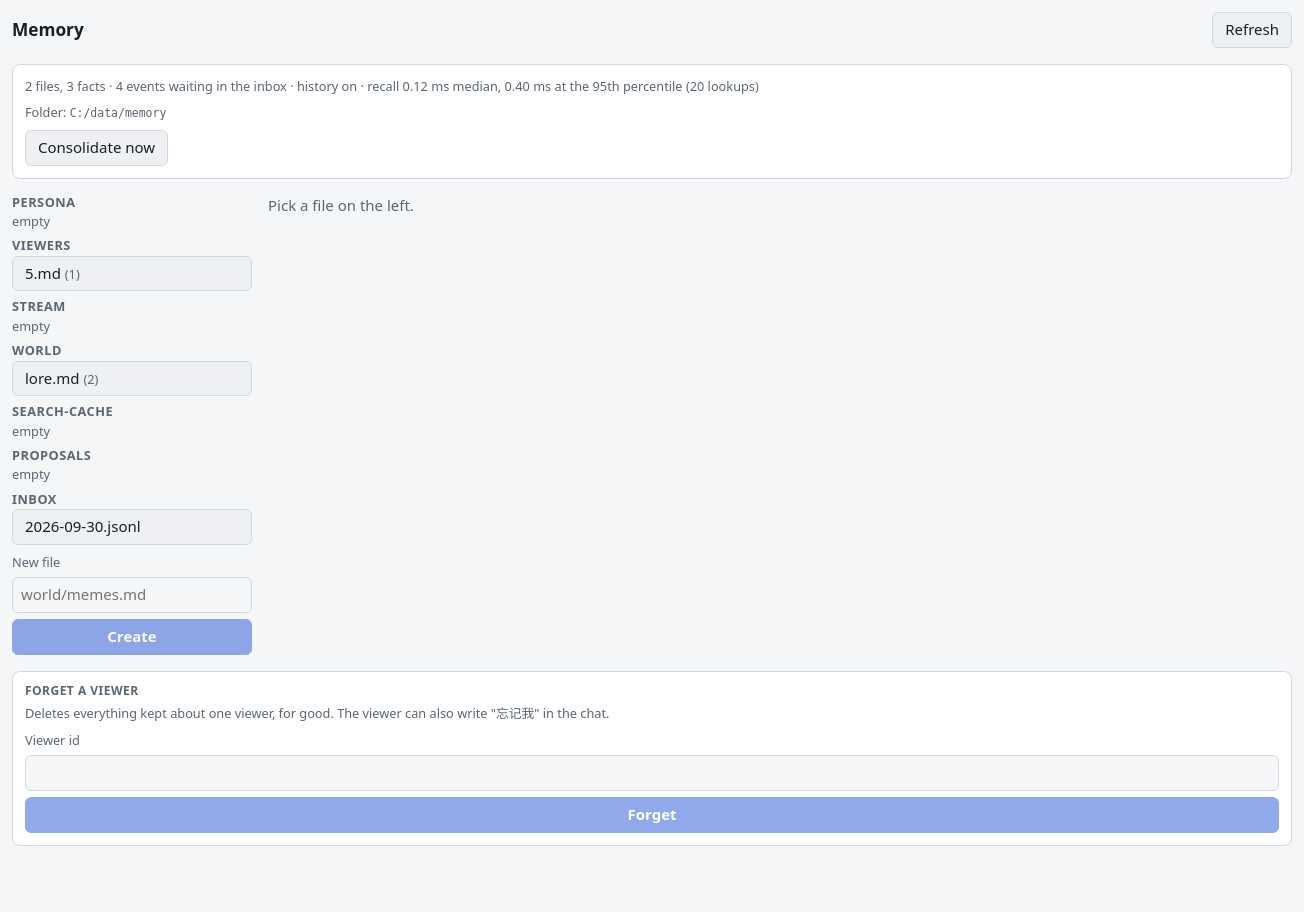
Test case: a file › a conflict is said in the server’s words and the file is read again
Click the button "lore.md (2)" at point(132, 378), box [12, 360, 252, 396]
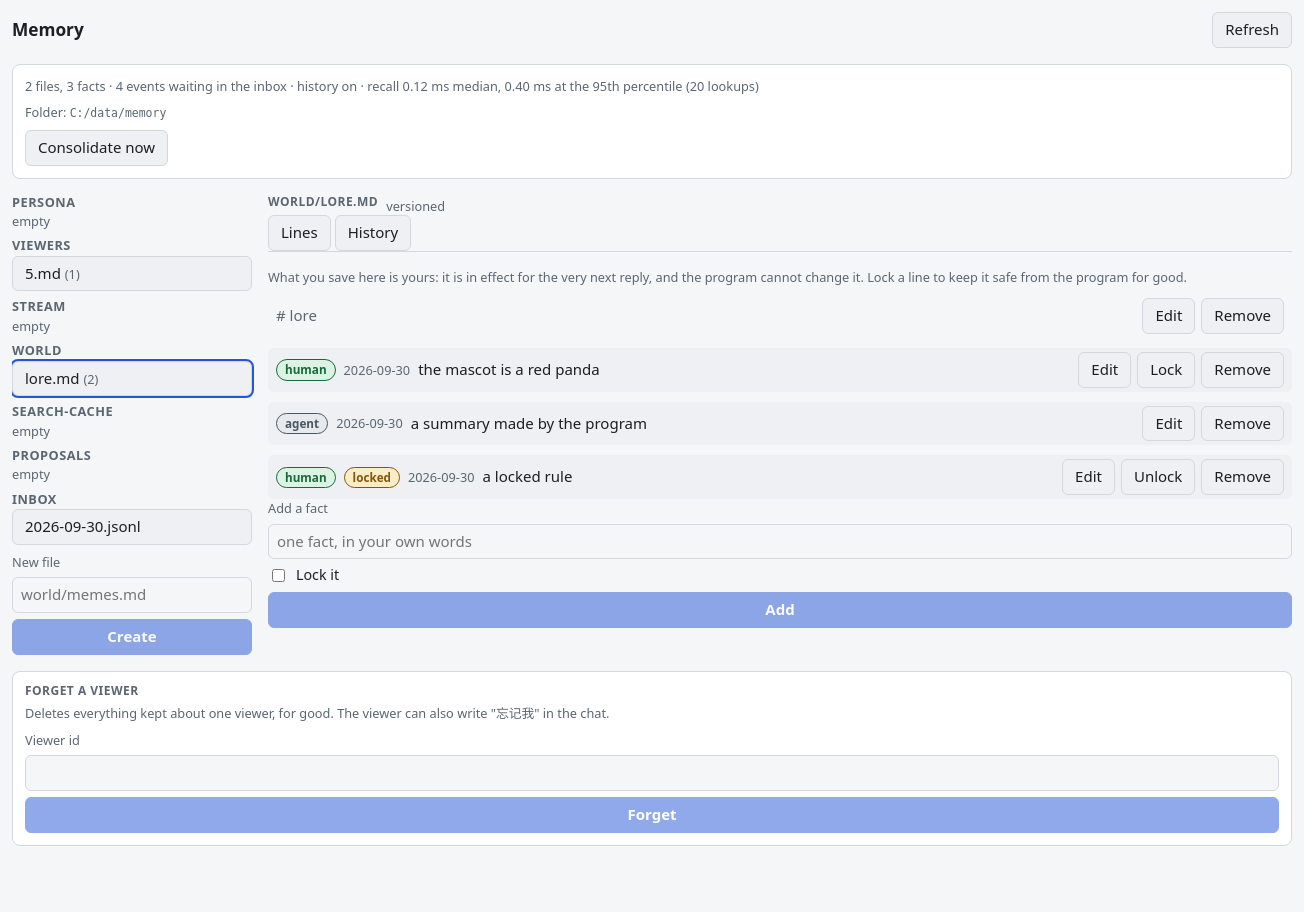
Expected: the element showing "Lines History" is shown, [268, 215, 1292, 252]
Click the button "Lock" at point(1166, 370), box [1137, 352, 1195, 388]
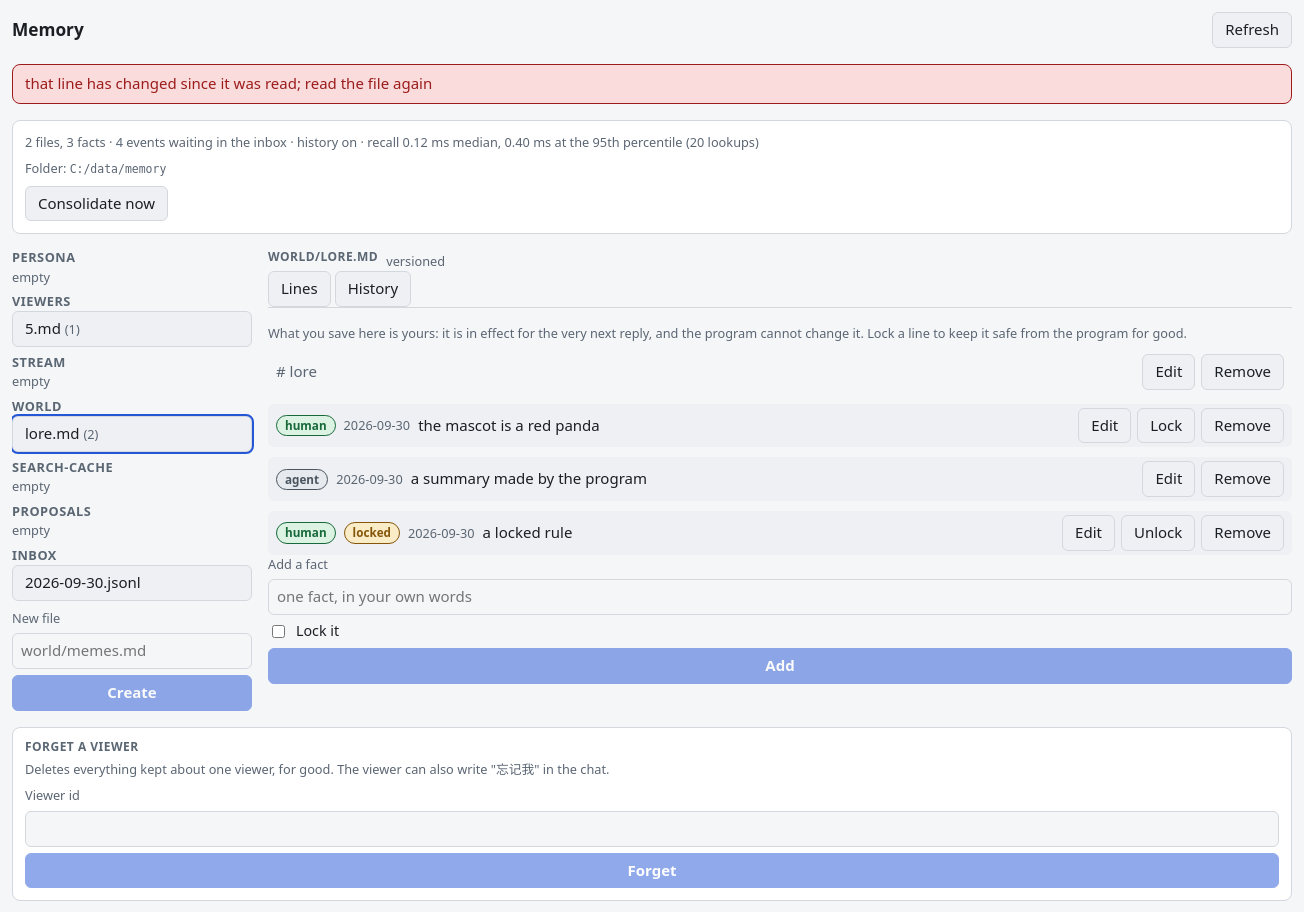
Expected: the text "that line has changed since it was read; read the file again" is shown, [12, 64, 1292, 104]
